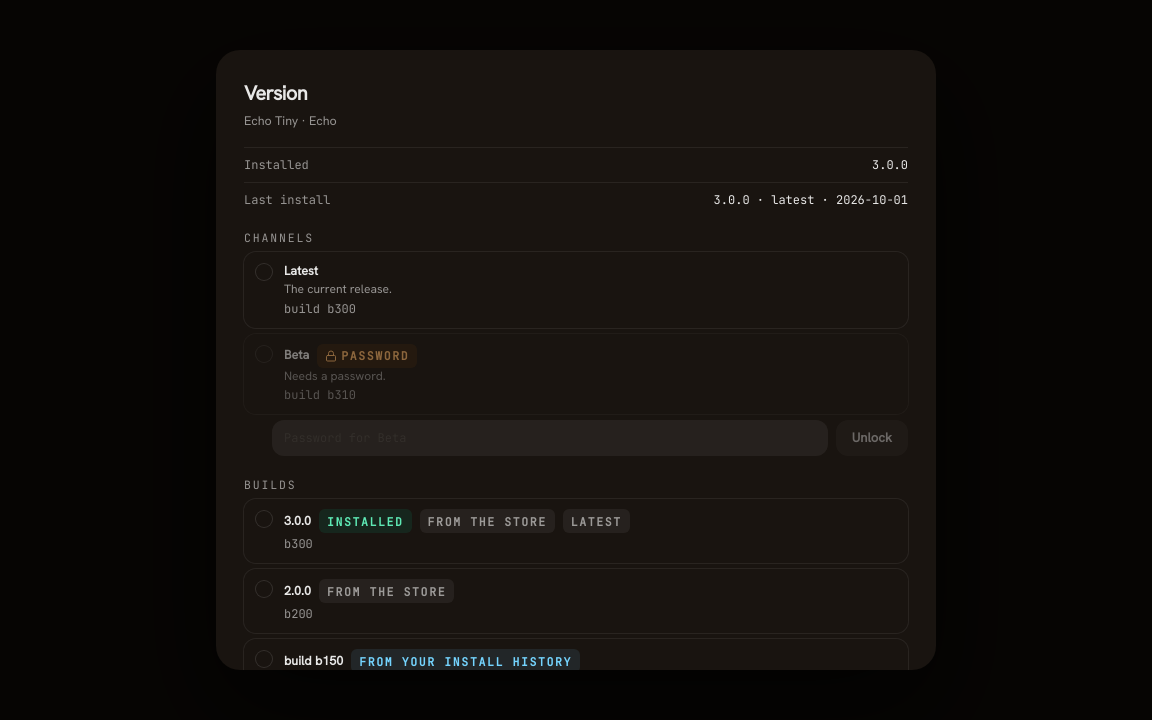
Test: Version dialog › keeps the install button off until something is chosen, and for the installed version
Click the radio button labelled "3.0.0" at (576, 531), box [244, 499, 908, 563]
(page scrolled)
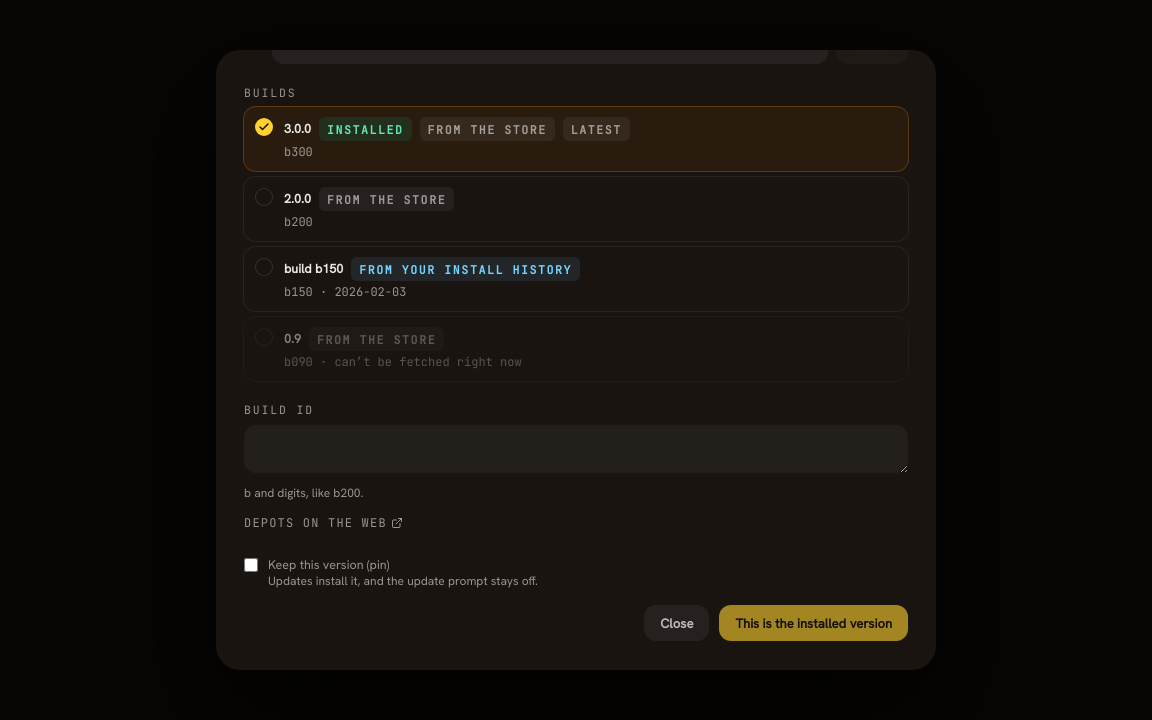
Result: the button "This is the installed version" is disabled at [719, 605, 908, 641]
